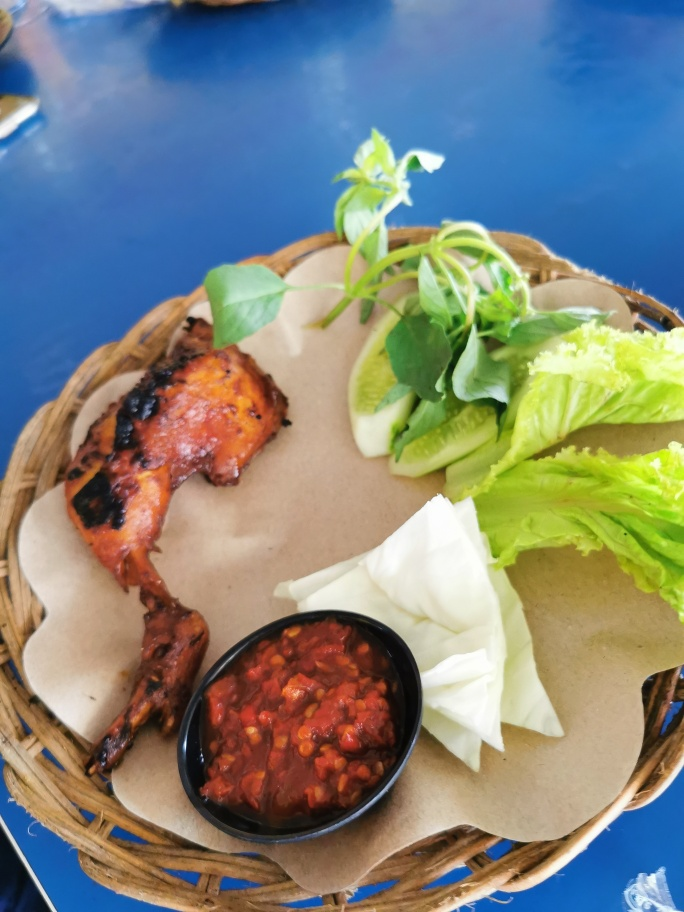ayam bakar: (67, 307, 283, 801)
